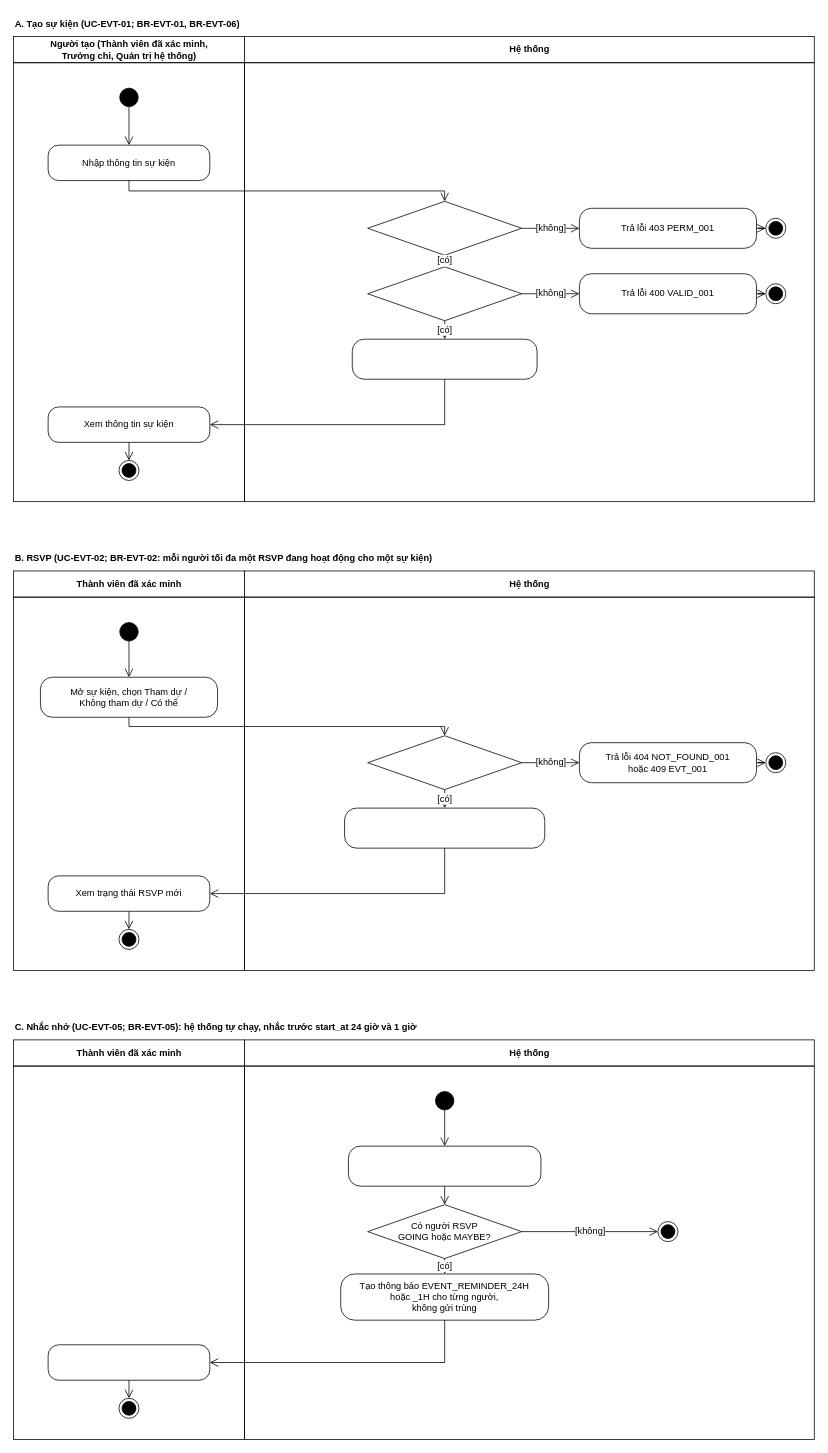
This 828x1453 diagram has some shape labels left out. Here are the shapes that lost their labels. From the top down, the centre of each, then its label:
At [444,228]: "Có quyền tạo? (BR-EVT-01)".
At [444,293]: "Dữ liệu hợp lệ?".
At [444,358]: "Lưu sự kiện; báo module AI cập nhật chỉ mục (AiGateway)".
At [444,762]: "Sự kiện còn tồn tại và chưa bắt đầu?".
At [444,827]: "Lưu RSVP (GOING, NOT_GOING, MAYBE); đổi lựa chọn thì cập nhật".
At [444,1165]: "Đến lịch chạy: tìm sự kiện sắp bắt đầu sau 24 giờ hoặc 1 giờ".
At [128,1362]: "Xem thông báo trong ứng dụng".
